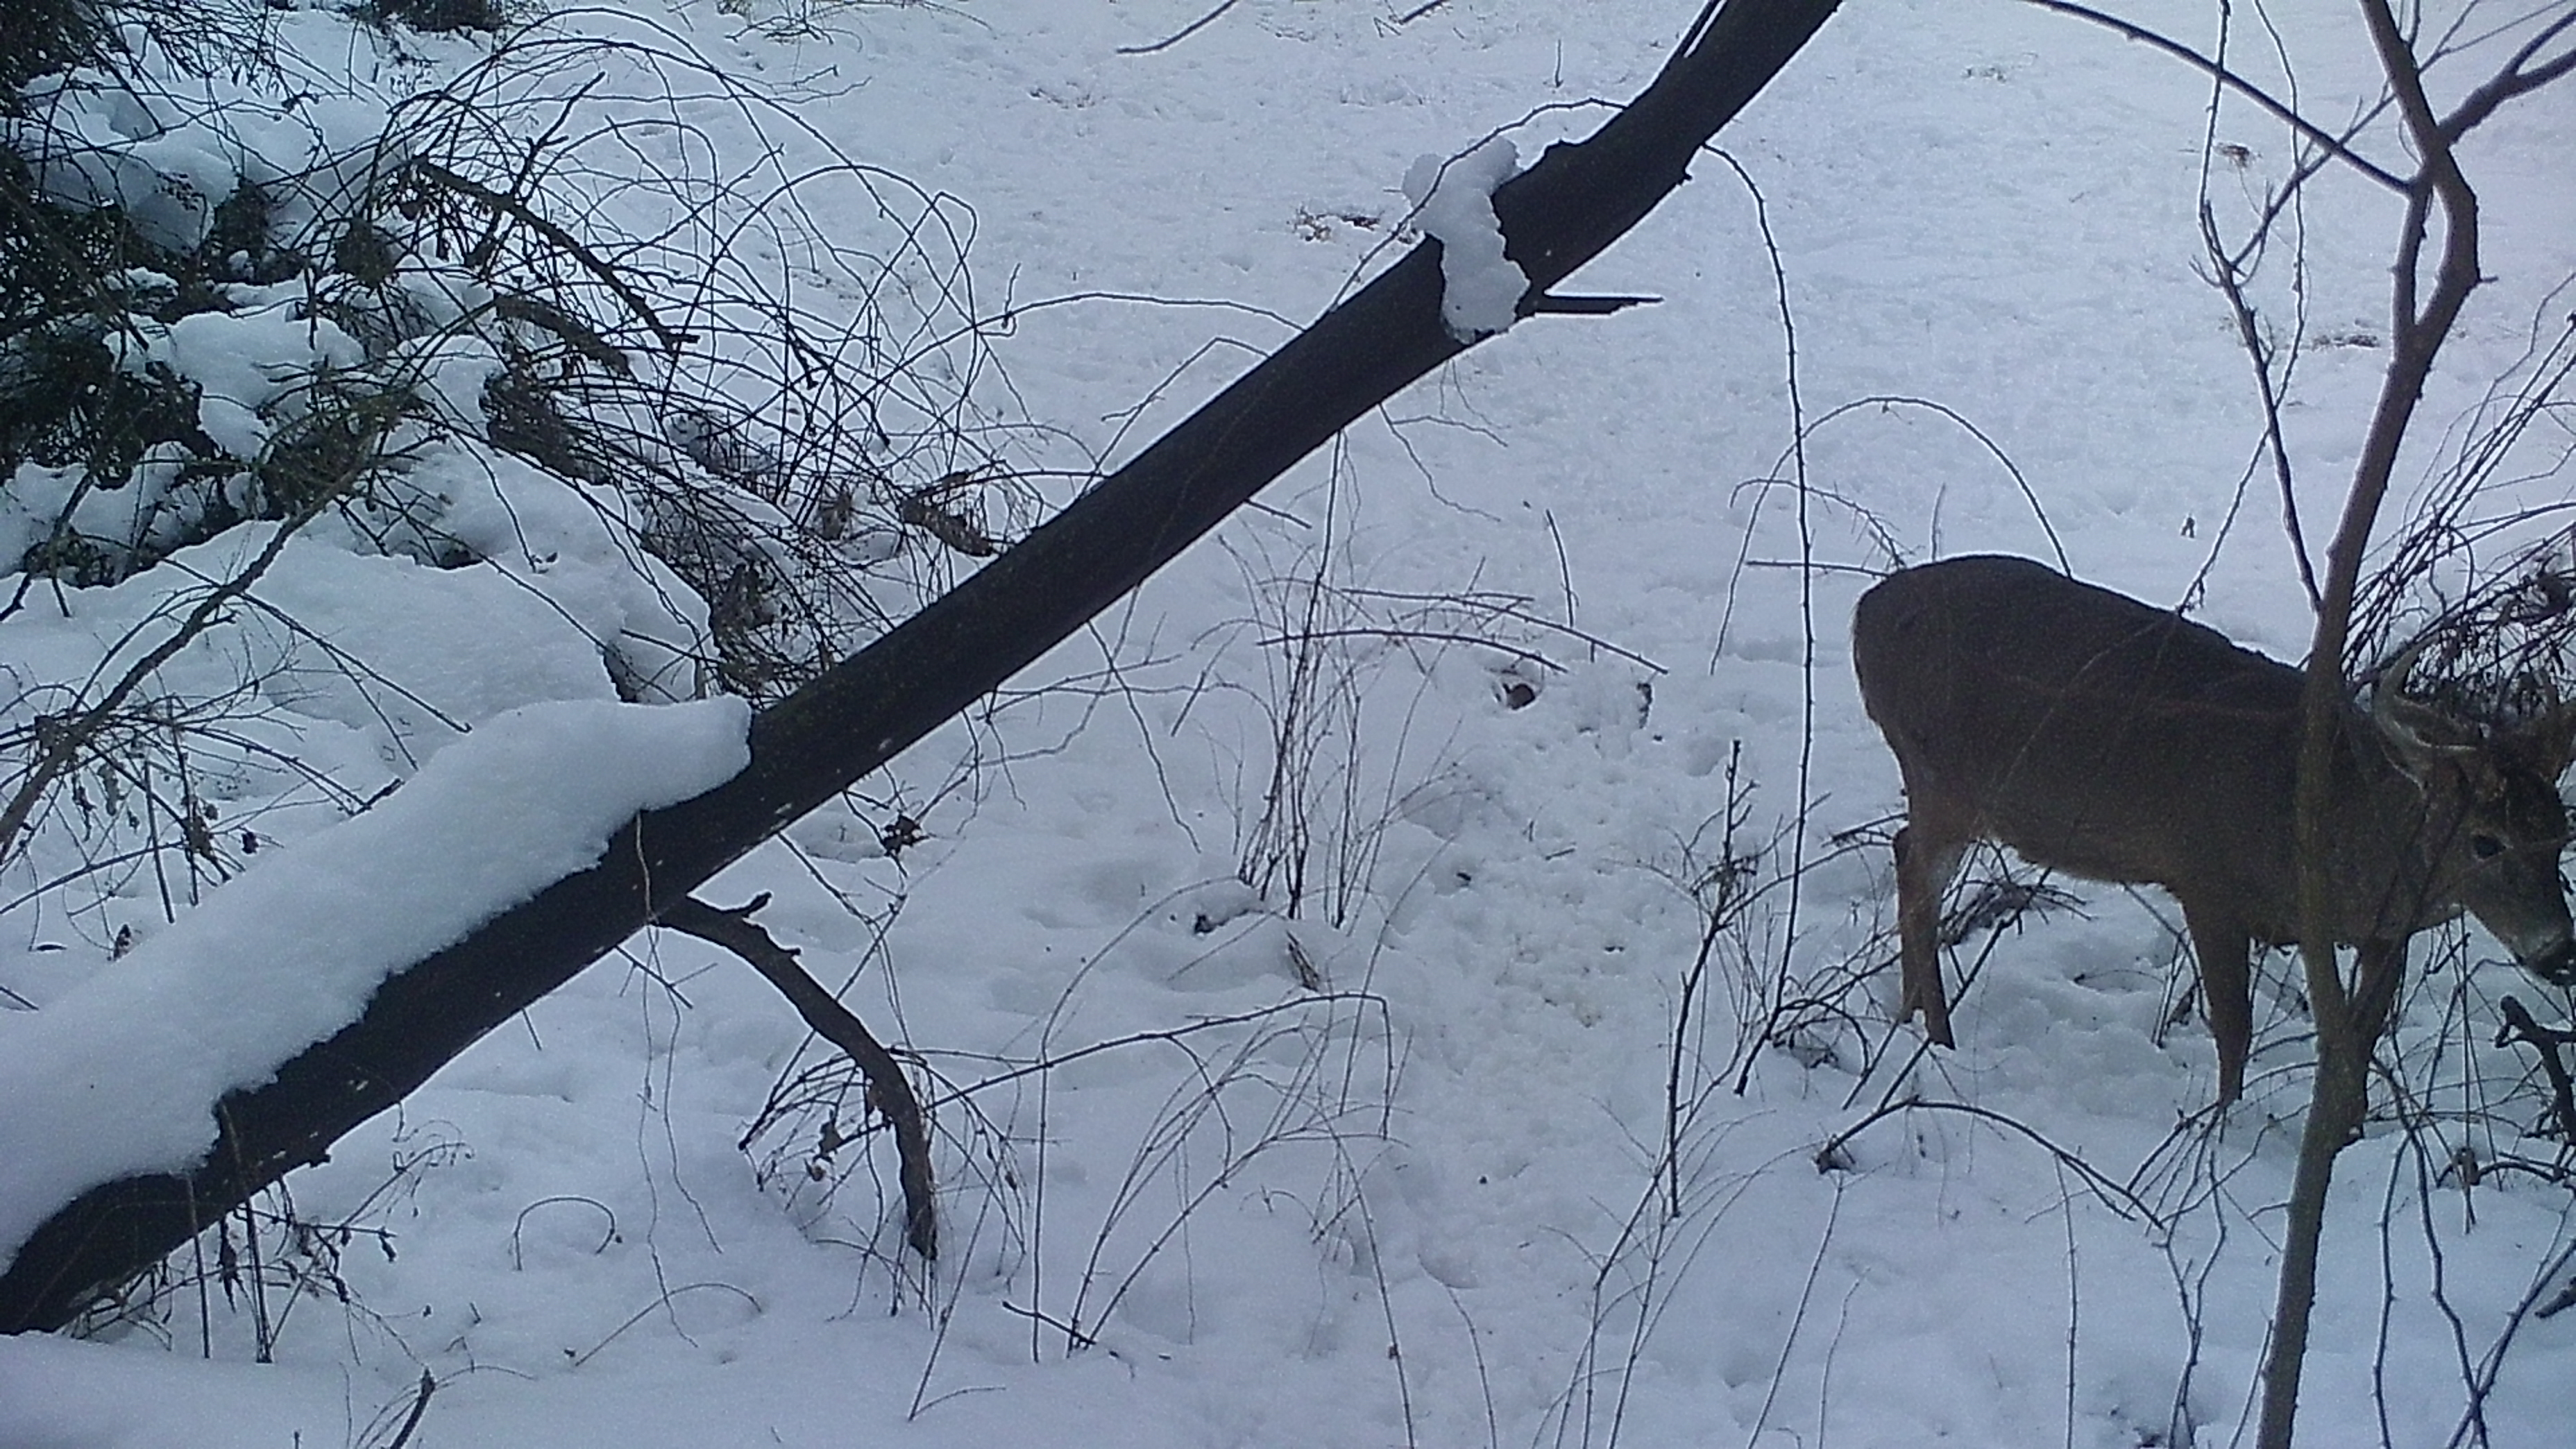DeerBuck: (1849, 545, 2574, 1105)
DeerBuckHead: (2355, 626, 2576, 978)
